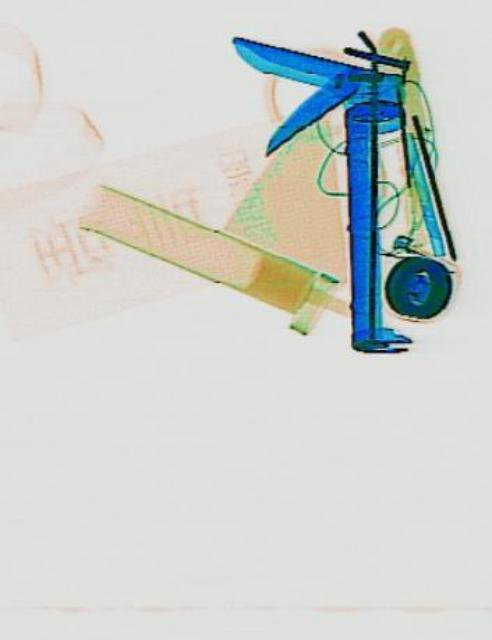Knife: (227, 28, 409, 350)
